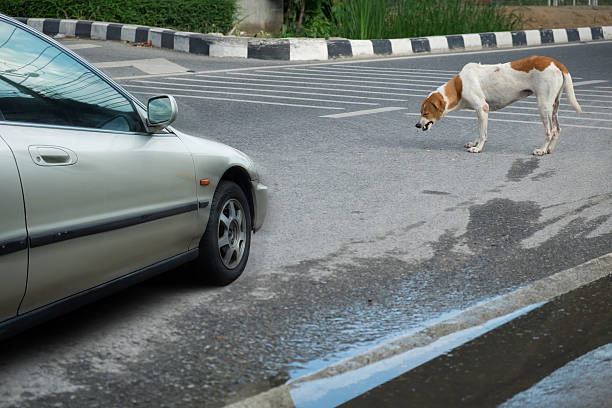kopek: (408, 52, 585, 170)
otomobil: (0, 6, 281, 332)
